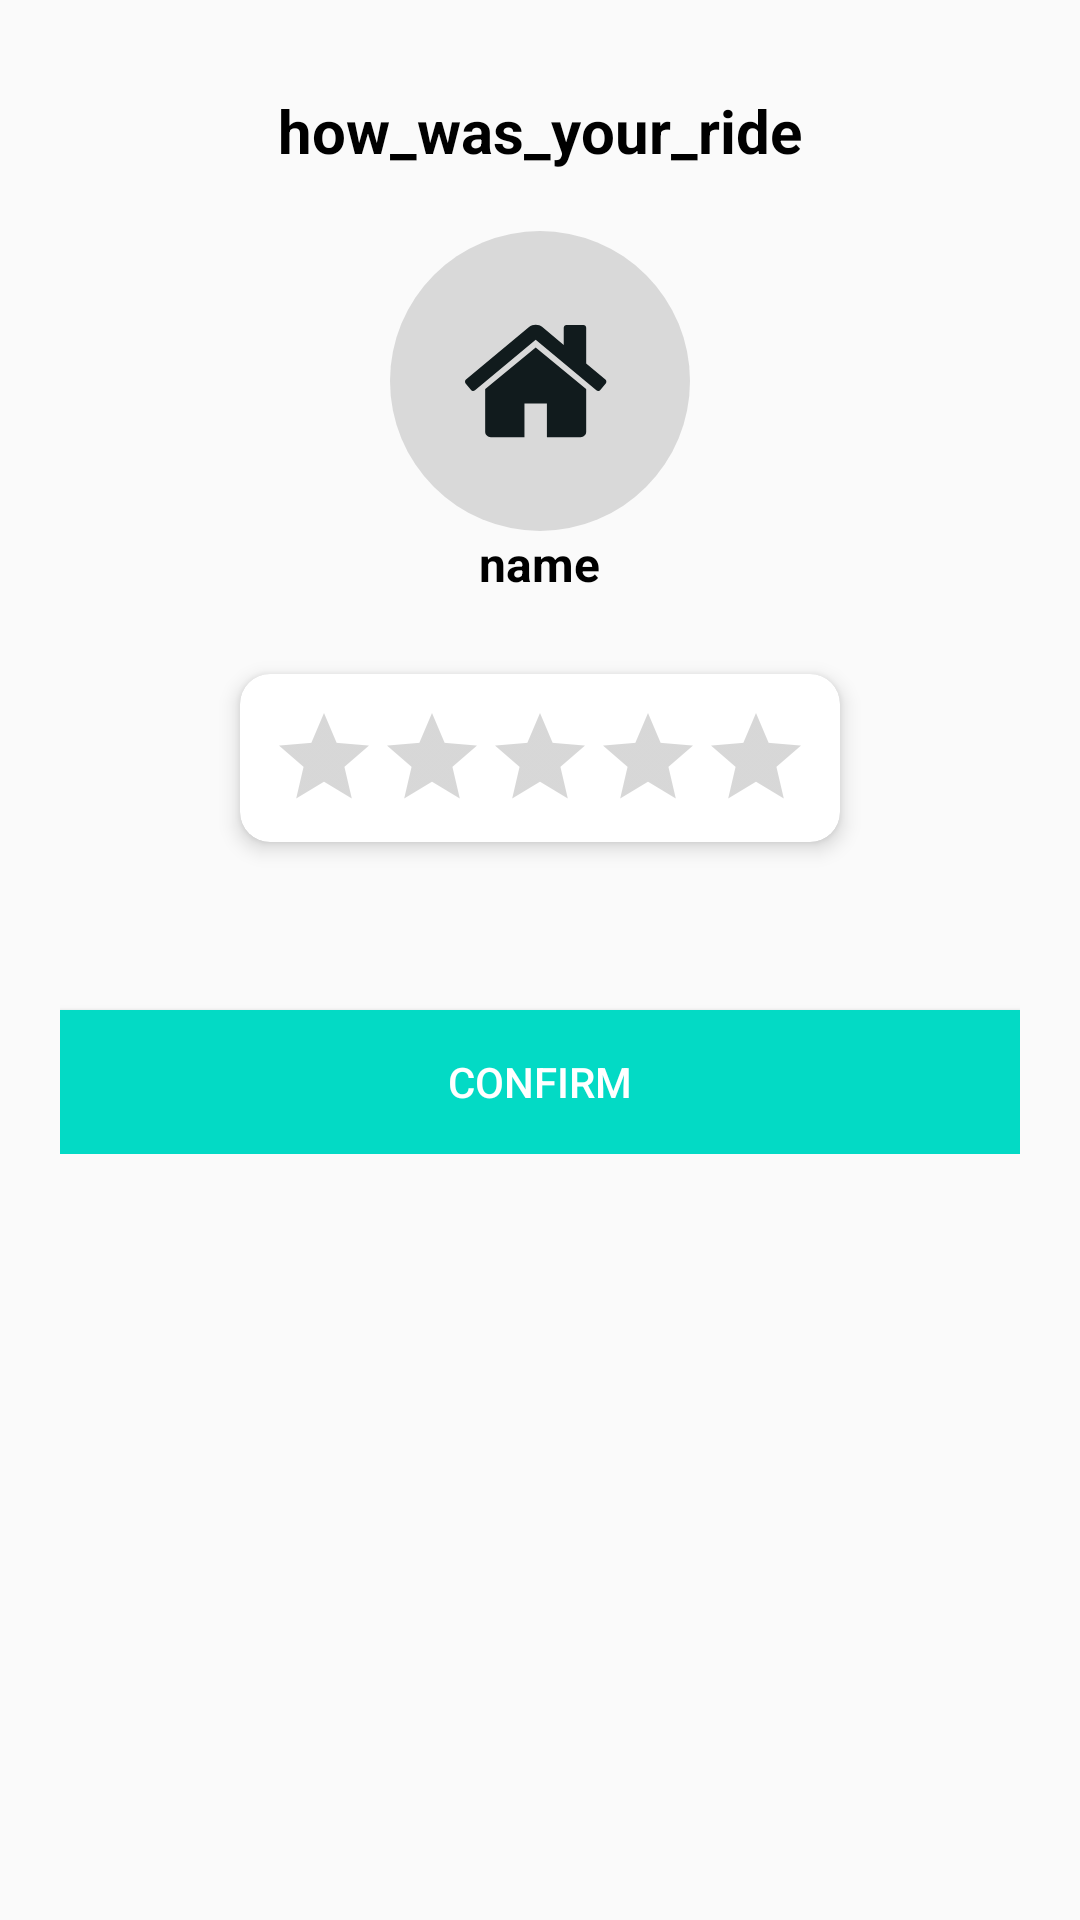

Locate icon controls on the screen. Image size 1080w x 1920h, boxes as [x1=x1, y1=y1, x2=x2, y2=y2].
home: [x1=390, y1=231, x2=690, y2=531]
